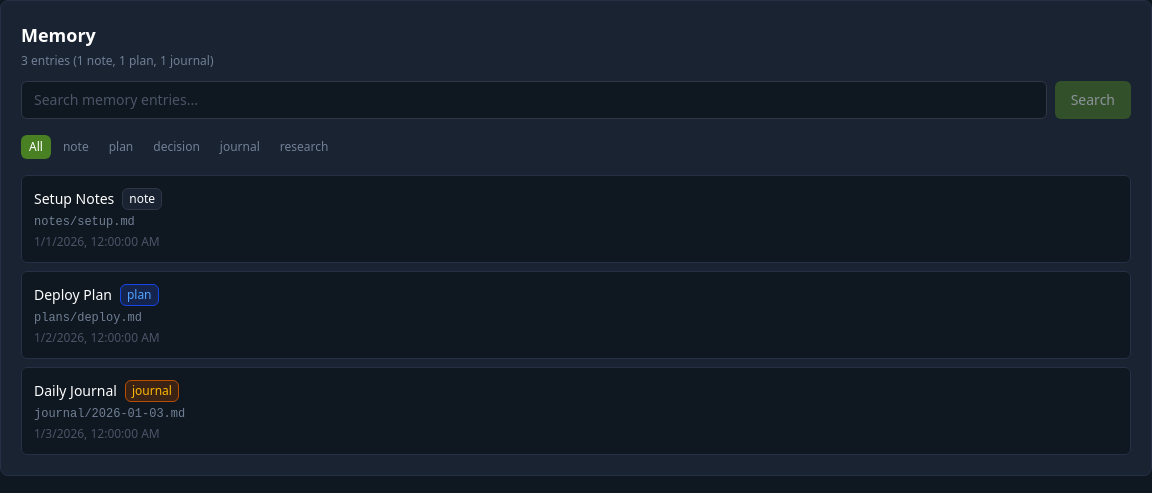
Scenario: AgentMemory › T2: filters entries by type, and asks the SERVER for the filtered set
Check: the number of buttons with test id "entry-item" is 3, box [21,175,1131,263]; [21,271,1131,359]; [21,367,1131,455]
What coordinates should you click on to do the following:
click the button "note"
I would click on:
 (76, 147)
Its box is [55,135,97,159].
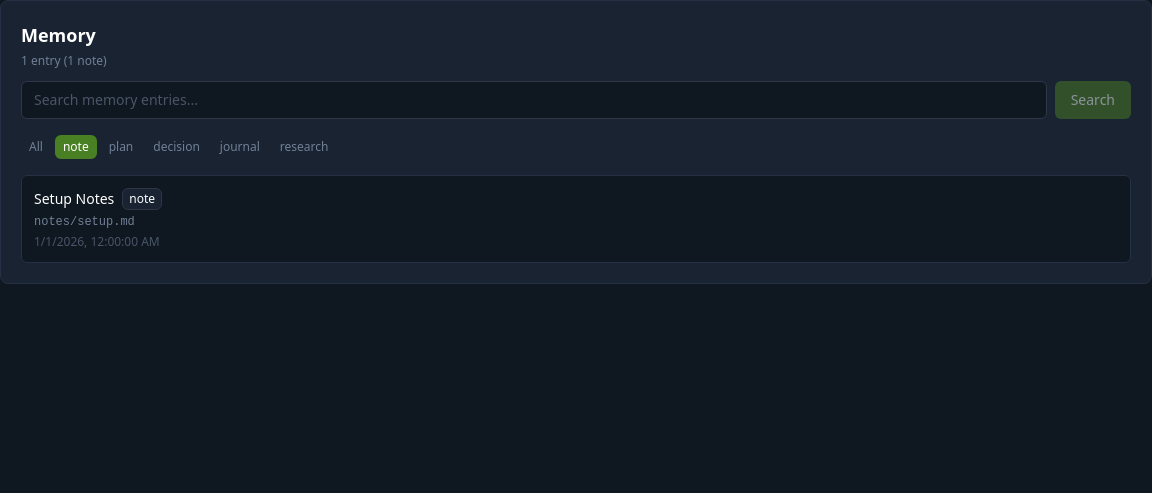
Check: the text "Setup Notes" is shown, box [34,189,114,209]
Check: the number of buttons with test id "entry-item" is 1, box [21,175,1131,263]
